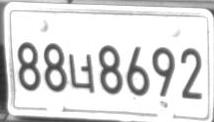2: (181, 47, 202, 100)
6: (126, 46, 150, 96)
8: (98, 44, 123, 95), (17, 41, 41, 91), (43, 42, 67, 92)
9: (151, 46, 175, 97)
너: (67, 54, 94, 93)
